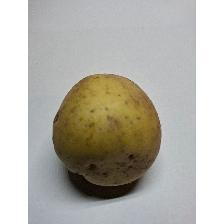Kartoffel: (51, 67, 164, 189)
